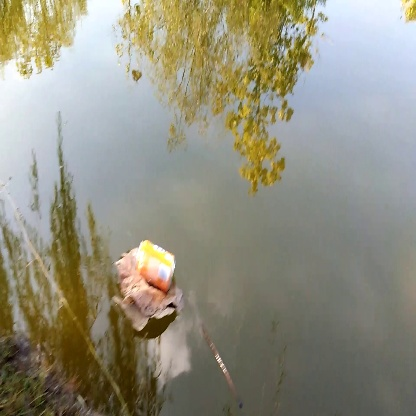bottle: (134, 231, 176, 294)
